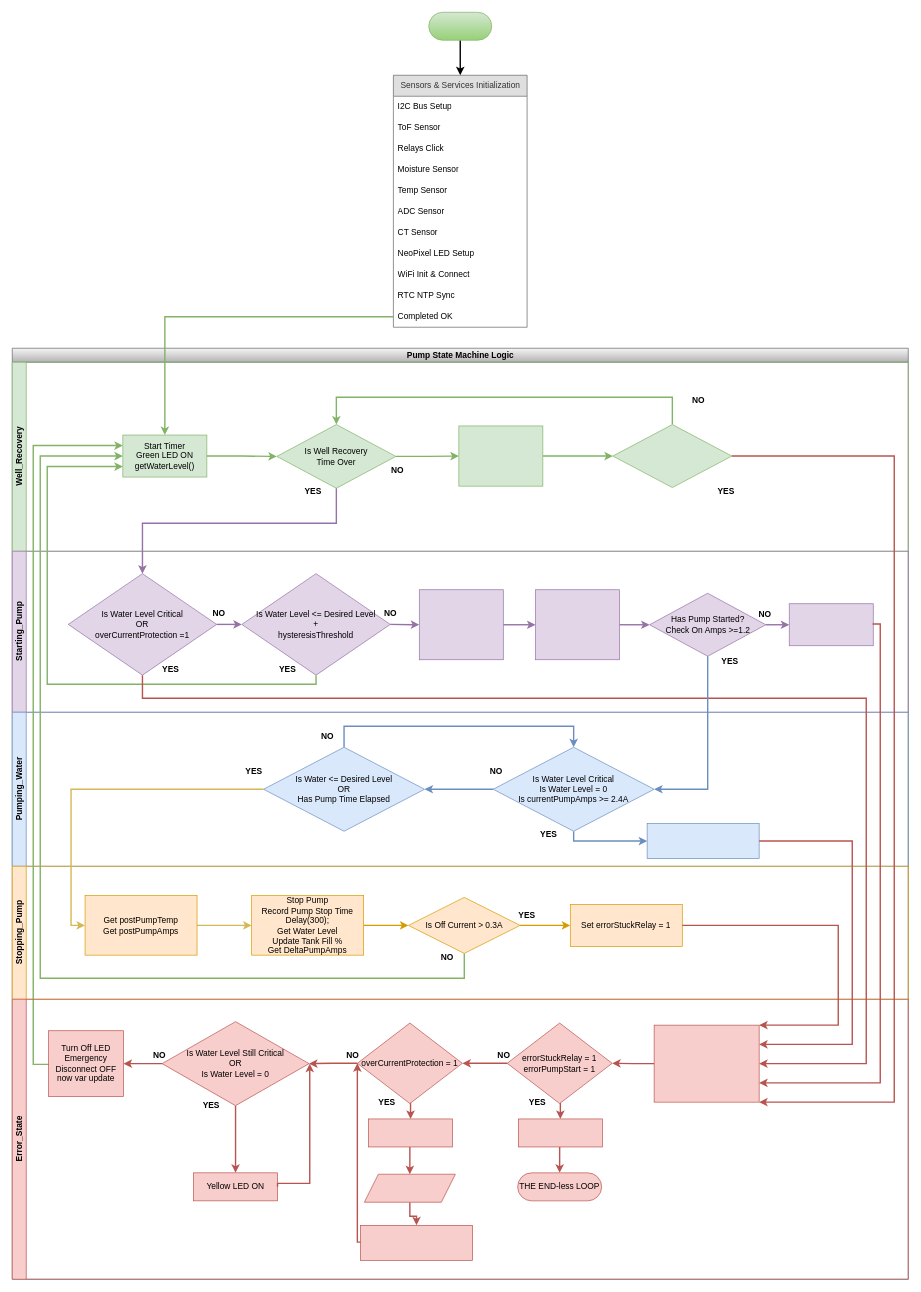
Image size: 921x1292. Some labels were removed from this diagram. Here are the shapes that lost their labels. From the top down, the centre of each, then its label:
At [460,26]: "Start".
At [500,455]: "Update Water Temp Update Water Level Update Tank Fill % Every 10 Min".
At [672,456]: "Is Water Level Critical Is Water Level = 0".
At [461,624]: "Turn Off Green LED Cyan LED ON Get Pre-Pump Temp".
At [577,624]: "Last Pump Start = Current Time totalPumpCycles +=1 Pump Start delay(100);".
At [831,624]: "errorPumpStart = 1".
At [702,841]: "currentPumpAmps >= 2.4A overCurrentProtection = 1".
At [706,1063]: "Stop Pump Emergency Disconnect ON errorStateCount ++".
At [410,1132]: "Purple LED ON Emergency Disconnect OFF".
At [560,1132]: "Red LED ON".
At [409,1188]: "LOOP until BOOT Button is pressed".
At [416,1242]: "overCurrentProtection = 0".
